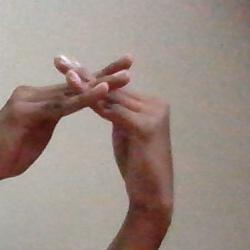W: (1, 2, 204, 250)
